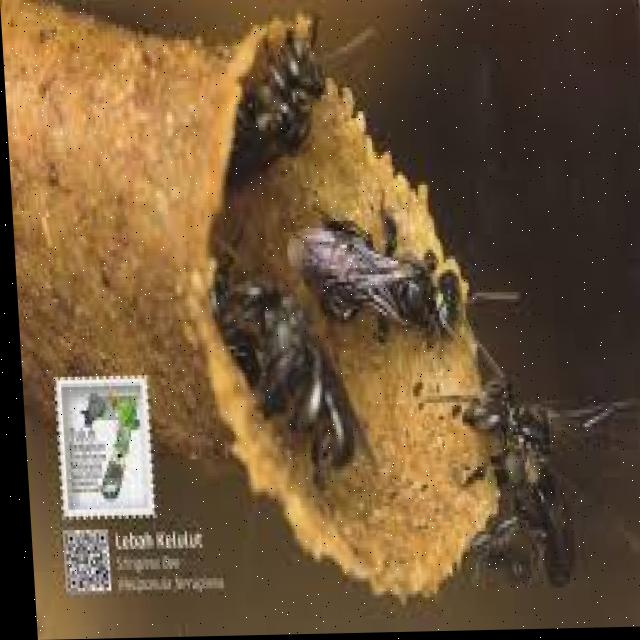Meliponula: (201, 258, 373, 508), (452, 377, 607, 604), (189, 10, 348, 195), (288, 181, 448, 358)
